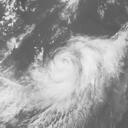cyclone: (31, 34, 103, 102)
